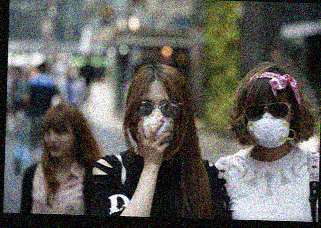with_mask: (245, 97, 291, 149), (134, 95, 176, 144)
without_mask: (44, 126, 74, 159)
